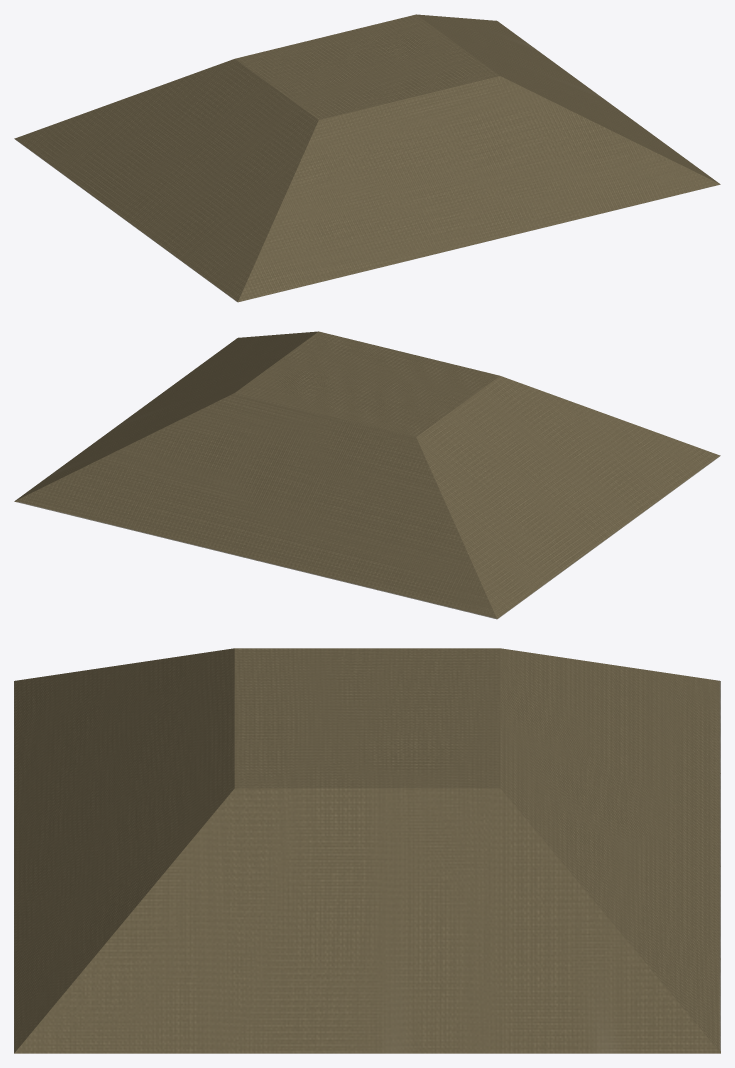
The model's file is _finalRoof.fbx.
3 renders of one model, top to bottom at view 1: azimuth 30°, elevation 25°; view 2: azimuth 150°, elevation 25°; view 3: azimuth 270°, elevation 25°, orthographic. The views are drawn at different scales.
Visible parts, largest first — view 1: _roof; view 2: _roof; view 3: _roof.
Part boxes in pixels (<box>): _roof: <box>14,14,720,302</box>; _roof: <box>14,331,720,619</box>; _roof: <box>14,648,720,1053</box>.
Bounding box in the file's own units: 1130 × 211 × 905.
Materials: 1 (1 with a texture image).
